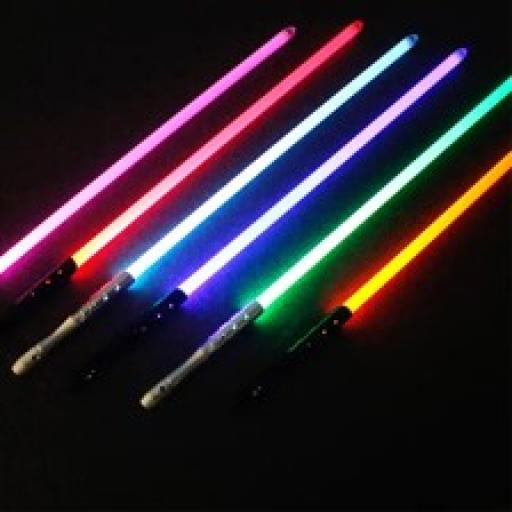lightsaber: (53, 45, 469, 388), (19, 34, 425, 384), (124, 74, 512, 399), (8, 19, 368, 317), (2, 27, 300, 272), (237, 152, 512, 408)
